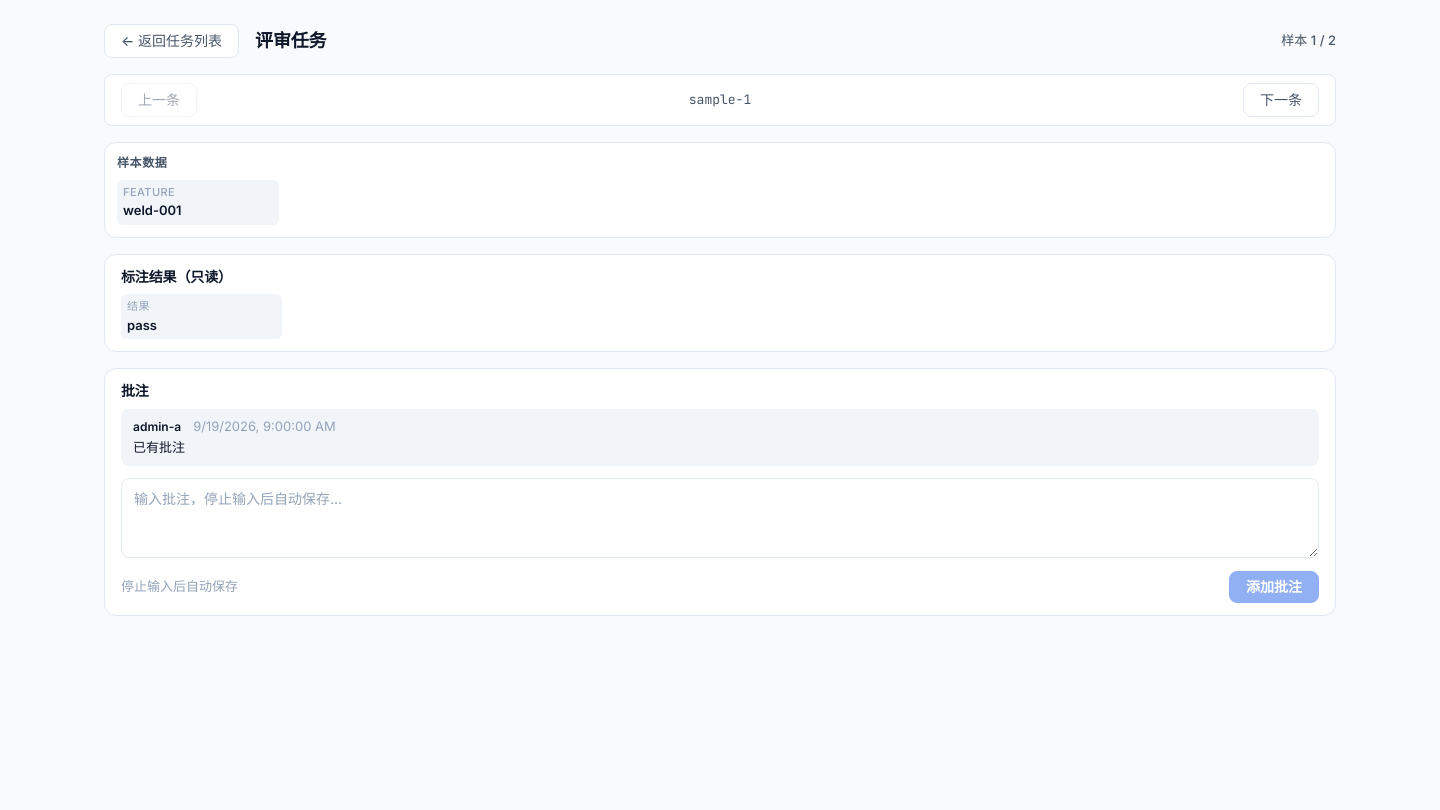
Test: AdminReviewPage › restores an unsaved draft when navigating back after a failed autosave
Expected: the text "weld-001" is shown, [123,202,182,218]
Type "失败草稿" into the text box named "批注内容" at (720, 518), box [121,478,1319,558]
Wait 800 ms
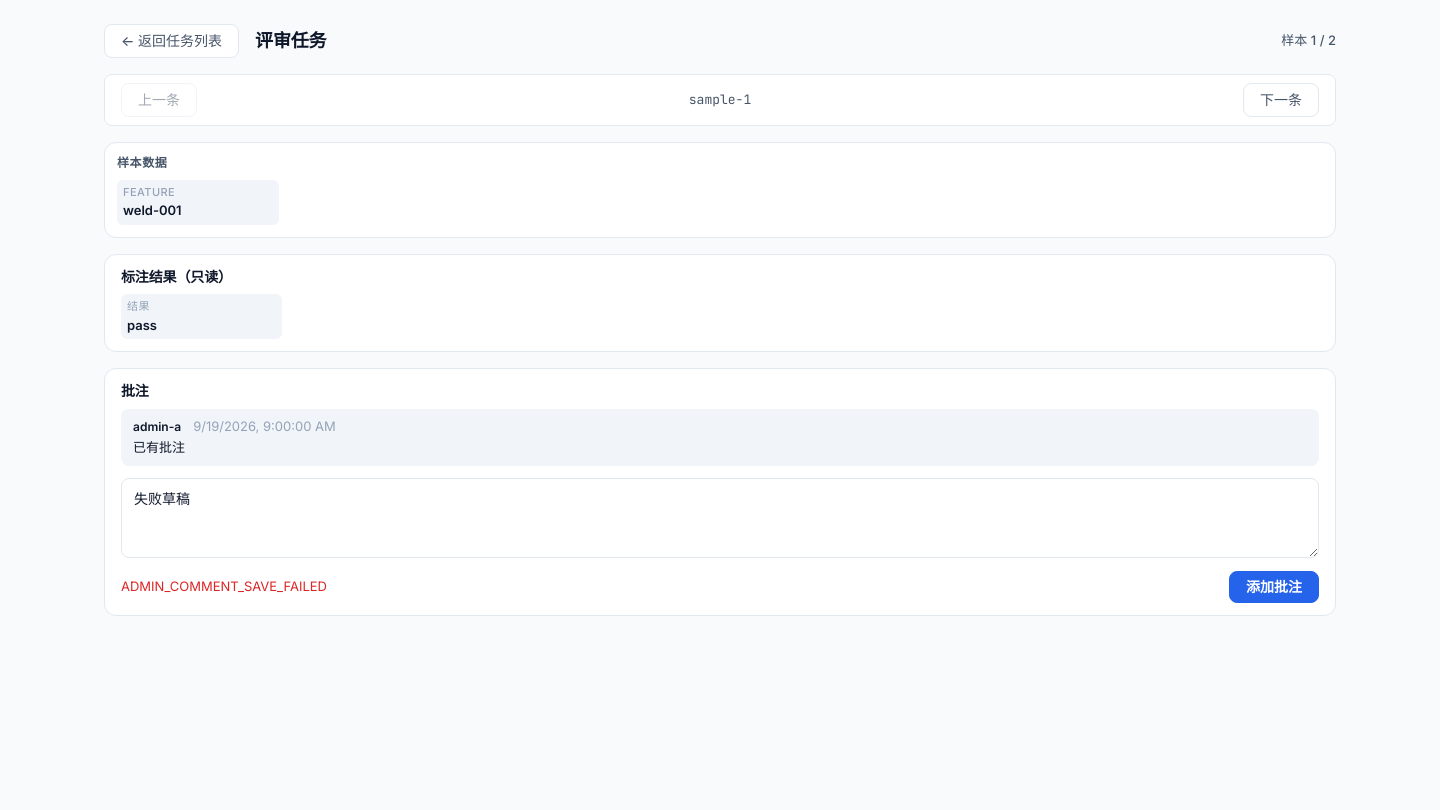
// Navigate away (background retry also fails) then back.
Click the button "下一条" at (1281, 100), box [1243,83,1319,117]
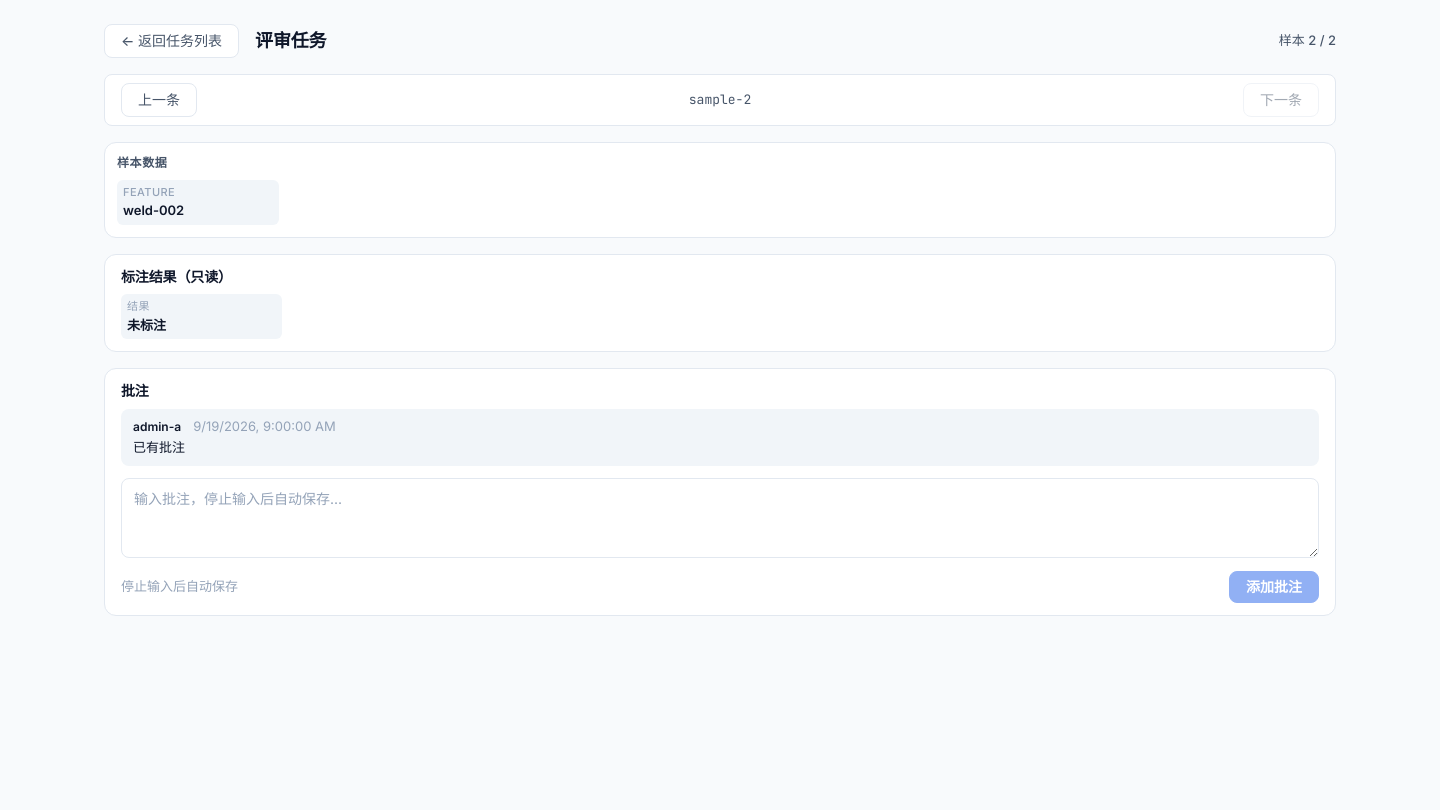
Now the text "weld-002" is shown, box [123,202,184,218]
Click the button "上一条" at (159, 100), box [121,83,197,117]
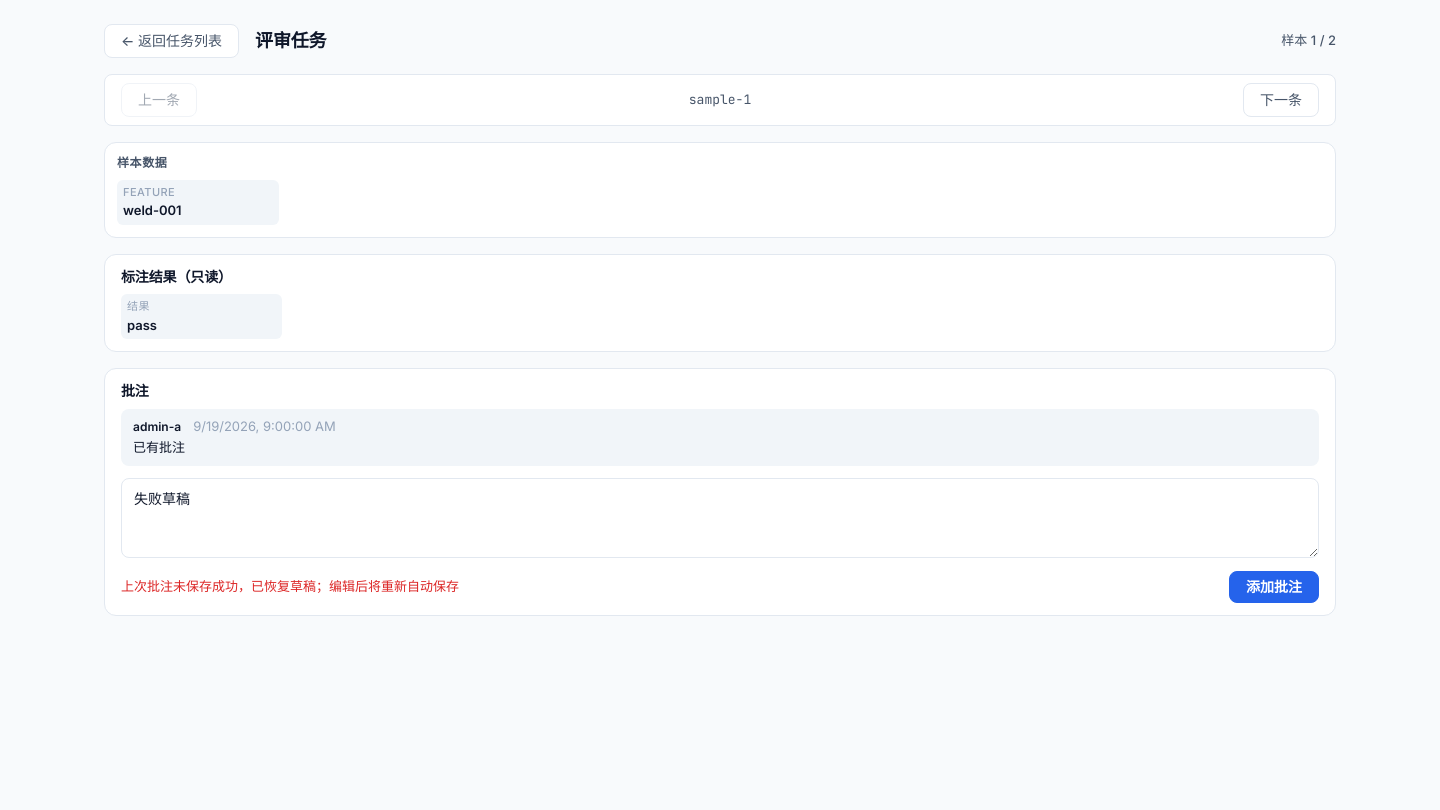
Now the text "weld-001" is shown, box [123,202,182,218]
Click the button "添加批注" at (1274, 587), box [1229,571,1319,603]
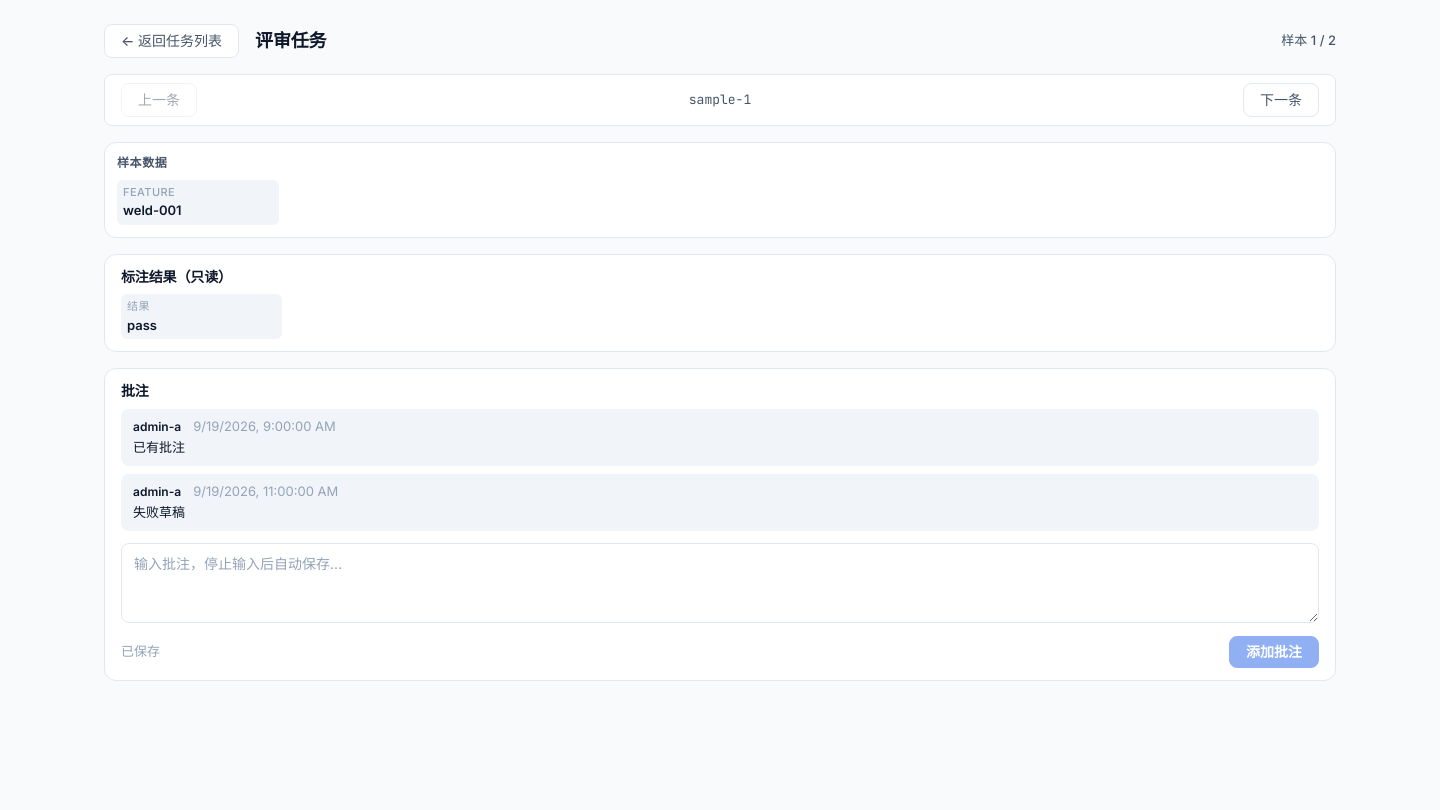
Now the text "失败草稿" is shown, box [133,504,185,520]
